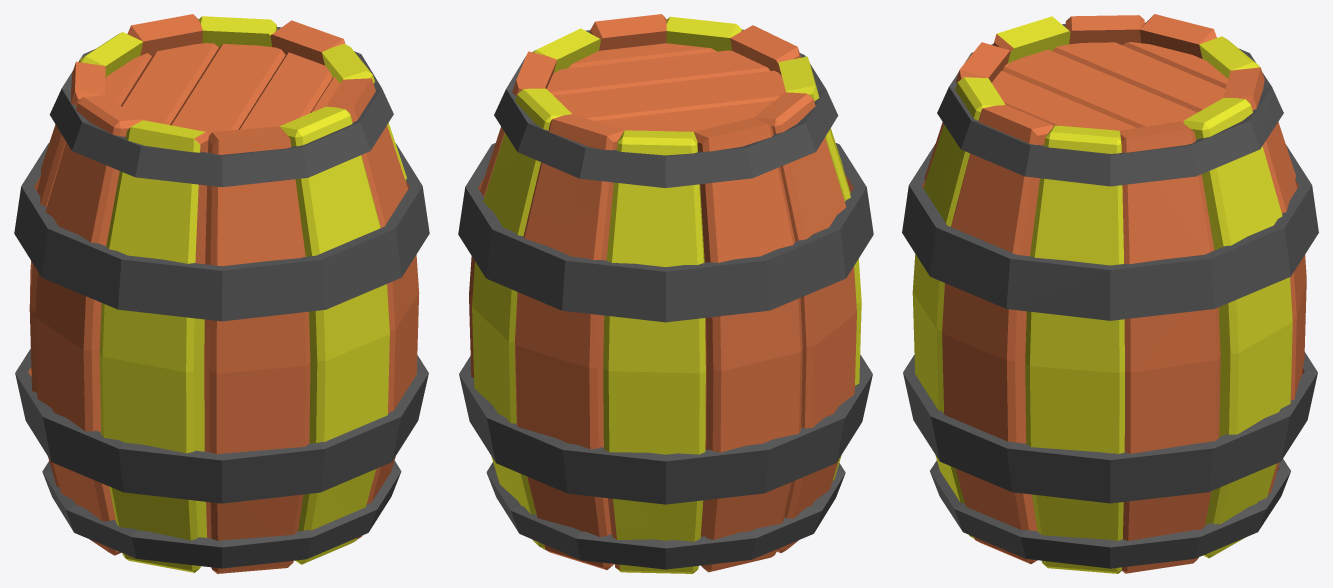
Rendered from barrel.fbx.
3 views of the same model, side by side, from view 1: azimuth 30°, elevation 25°; view 2: azimuth 150°, elevation 25°; view 3: azimuth 270°, elevation 25° (orthographic).
Visible parts, largest first — view 1: polySurface4, polySurface13, polySurface38, polySurface51, polySurface47, polySurface16, polySurface43, polySurface40, polySurface36, polySurface14, polySurface35, polySurface41 (+16 smaller); view 2: polySurface43, polySurface13, polySurface30, polySurface28, polySurface50, polySurface1, polySurface32, polySurface40, polySurface25, polySurface14, polySurface31, polySurface52 (+17 smaller); view 3: polySurface13, polySurface47, polySurface43, polySurface21, polySurface25, polySurface19, polySurface51, polySurface40, polySurface7, polySurface24, polySurface22, polySurface17 (+19 smaller).
Boxes of the visible parts, x1=… form: polySurface4: x1=205, y1=106, x2=379, y2=266; polySurface13: x1=104, y1=43, x2=339, y2=135; polySurface38: x1=204, y1=311, x2=310, y2=503; polySurface51: x1=56, y1=27, x2=393, y2=187; polySurface47: x1=142, y1=355, x2=428, y2=499; polySurface16: x1=303, y1=285, x2=389, y2=504; polySurface43: x1=14, y1=143, x2=397, y2=320; polySurface40: x1=42, y1=460, x2=401, y2=568; polySurface36: x1=100, y1=324, x2=204, y2=453; polySurface14: x1=35, y1=142, x2=112, y2=391; polySurface35: x1=111, y1=120, x2=208, y2=264; polySurface41: x1=235, y1=193, x2=428, y2=316; polySurface43: x1=458, y1=143, x2=873, y2=322; polySurface13: x1=547, y1=43, x2=785, y2=131; polySurface30: x1=603, y1=146, x2=706, y2=387; polySurface28: x1=515, y1=143, x2=616, y2=396; polySurface50: x1=485, y1=414, x2=832, y2=504; polySurface1: x1=527, y1=365, x2=855, y2=573; polySurface32: x1=700, y1=167, x2=802, y2=378; polySurface40: x1=486, y1=462, x2=845, y2=569; polySurface25: x1=472, y1=138, x2=540, y2=398; polySurface14: x1=780, y1=165, x2=856, y2=369; polySurface31: x1=603, y1=378, x2=706, y2=454; polySurface52: x1=508, y1=138, x2=783, y2=187; polySurface13: x1=992, y1=42, x2=1228, y2=130; polySurface47: x1=903, y1=354, x2=1259, y2=503; polySurface43: x1=1046, y1=145, x2=1318, y2=320; polySurface21: x1=1025, y1=311, x2=1124, y2=519; polySurface25: x1=1203, y1=146, x2=1292, y2=406; polySurface19: x1=942, y1=283, x2=1033, y2=517; polySurface51: x1=937, y1=22, x2=1266, y2=186; polySurface40: x1=930, y1=459, x2=1290, y2=568; polySurface7: x1=1030, y1=125, x2=1123, y2=263; polySurface24: x1=1123, y1=335, x2=1220, y2=505; polySurface22: x1=1124, y1=188, x2=1220, y2=385; polySurface17: x1=952, y1=105, x2=1053, y2=256.
Size of the model in its own units: 2.33 by 2.67 by 2.33.
